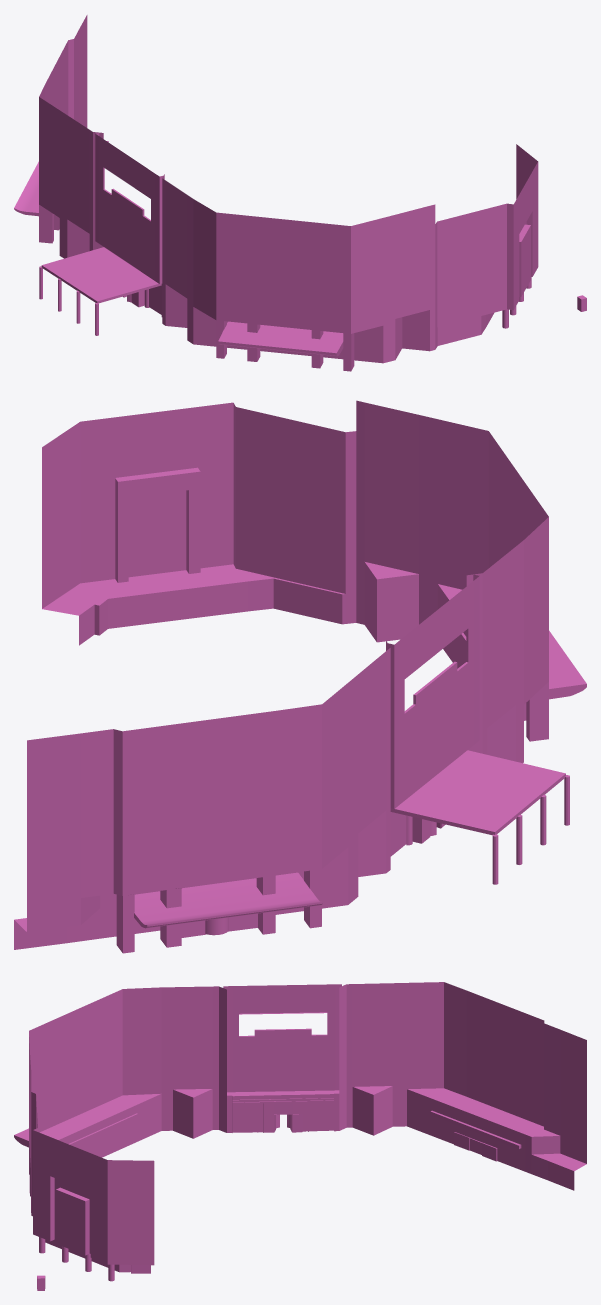
File: beijing_hetugongsi_outdoor.FBX
3 views of the same model, one above another, from view 1: azimuth 30°, elevation 25°; view 2: azimuth 150°, elevation 25°; view 3: azimuth 270°, elevation 25° (orthographic). The views are drawn at different scales.
Visible parts, largest first — view 1: bj_hetu_02, bj_hetu_03; view 2: bj_hetu_02, bj_hetu_03; view 3: bj_hetu_02, bj_hetu_03.
Part boxes in pixels (bbox=[...]): bj_hetu_02: bbox=[14, 15, 435, 371]; bj_hetu_03: bbox=[435, 144, 538, 349]; bj_hetu_02: bbox=[14, 400, 586, 953]; bj_hetu_03: bbox=[42, 402, 356, 645]; bj_hetu_02: bbox=[14, 982, 586, 1212]; bj_hetu_03: bbox=[31, 1092, 154, 1281].
Bounding box in the file's own units: 84.66 × 107 × 29.67.
